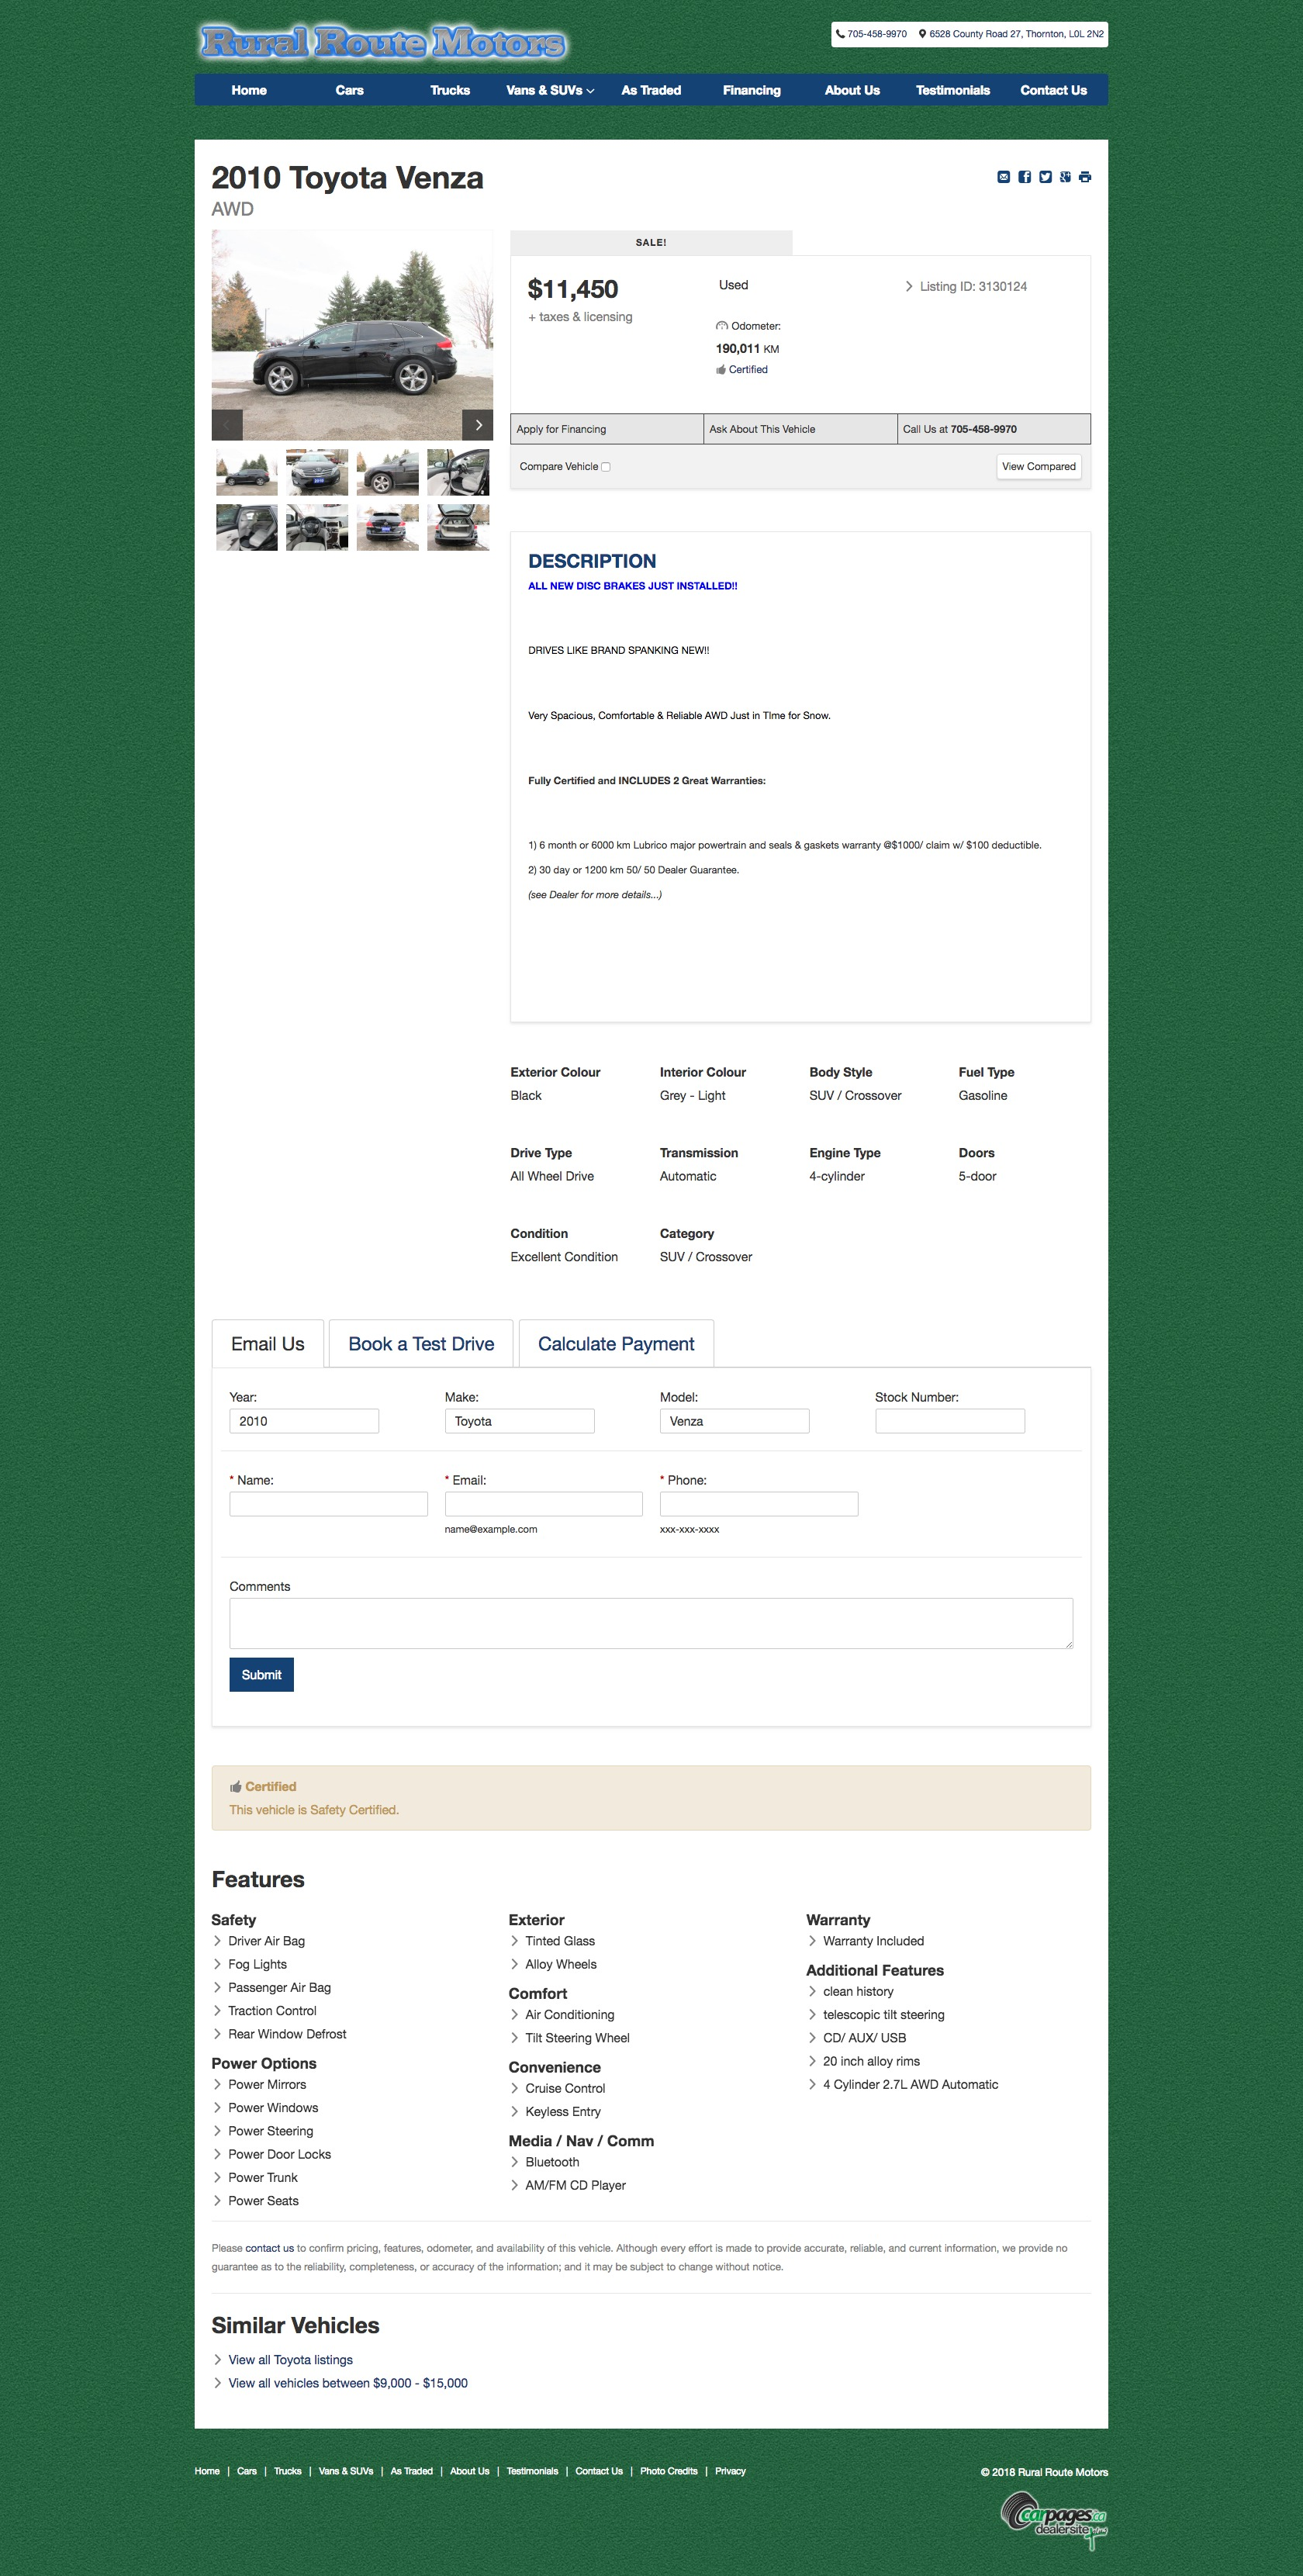car: (462, 409, 495, 442)
